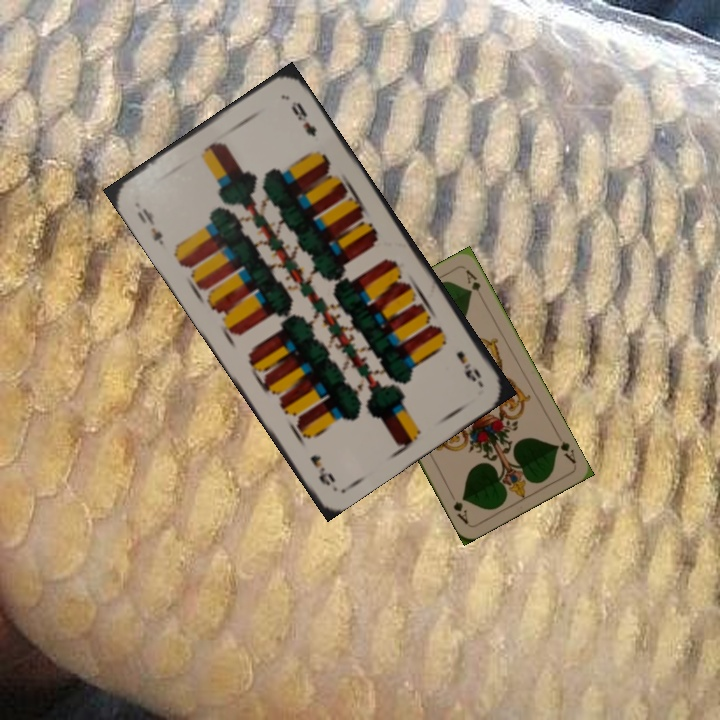E9: (132, 204, 166, 248), (452, 347, 485, 387)
GA: (551, 437, 579, 467)
